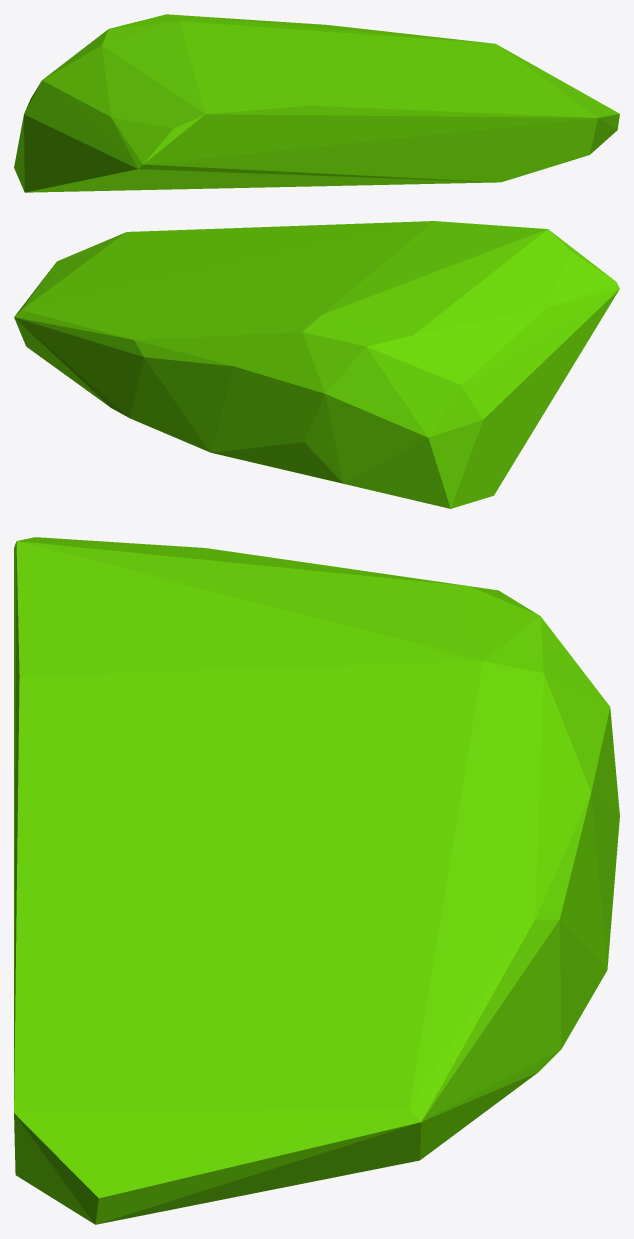
The model's file is hip-roll-housing_convex_piece_000.obj.
3 renders of one model, top to bottom at view 1: azimuth 30°, elevation 25°; view 2: azimuth 150°, elevation 25°; view 3: azimuth 270°, elevation 25°, orthographic. The views are drawn at different scales.
Bounding box in the file's own units: 0.1569 × 0.0439 × 0.0831.
